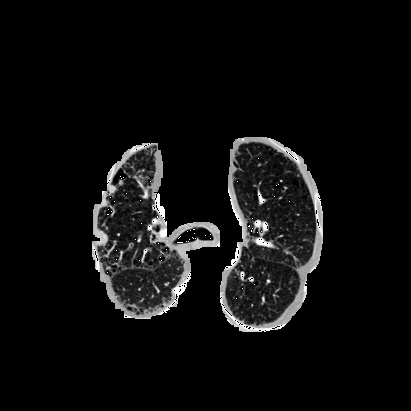PN: (104, 188, 114, 198)
